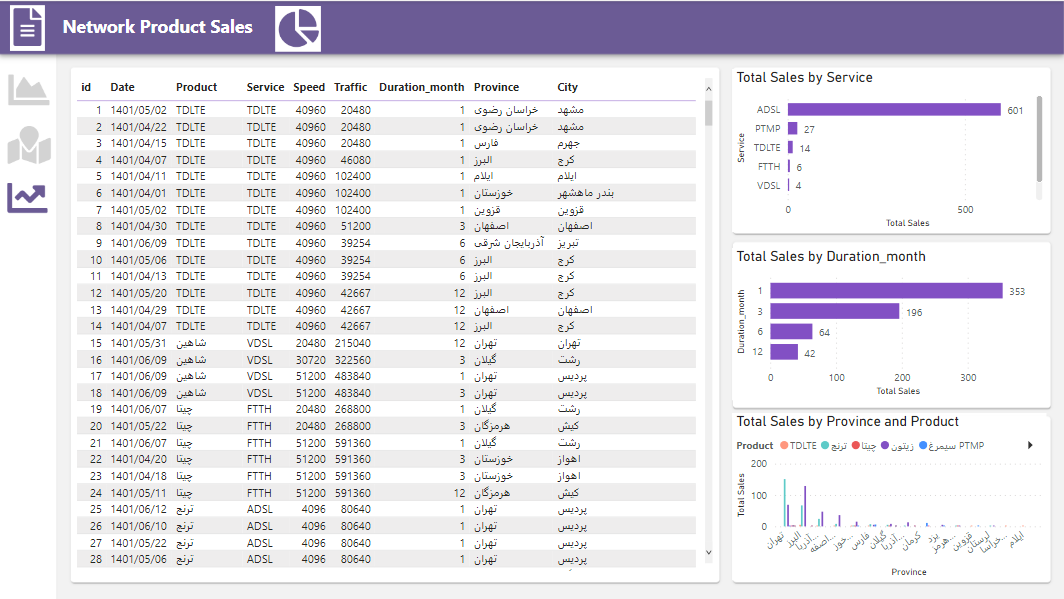

What the dashboard file says about the page in this screenshot:
{"tool":"powerbi","page":{"name":"Stats","canvas":[1280,720],"ordinal":2},"visuals":[{"type":"clusteredBarChart","fields":{"Category":["products.Service"],"Y":["CountNonNull(sales.Product_id)"]},"box":[880.3,82.2,378.5,195.6],"z":0,"group":"g1"},{"type":"clusteredBarChart","fields":{"Y":["CountNonNull(sales.Product_id)"],"Category":["products.Duration_month"]},"box":[880.3,297.7,368.5,182.9],"z":1000,"group":"g1"},{"type":"textbox","box":[69.5,11.3,256.6,39.7],"z":2000},{"type":"image","box":[0,81.9,69.5,53.3],"z":3000},{"type":"image","box":[0,201.3,69.5,65.2],"z":4000},{"type":"image","box":[0,138.9,69.5,65.2],"z":5000},{"type":"actionButton","box":[0,79.4,68,59.5],"z":6000},{"type":"actionButton","box":[0,201.3,68,65.2],"z":7000},{"type":"tableEx","fields":{"Values":["sales.id","time.Date","products.Product","products.Service","products.Speed","products.Traffic","products.Duration_month","province.Province","city.City"]},"box":[86.5,87.9,775.4,602.4],"z":8000,"group":"g1"},{"type":"clusteredColumnChart","fields":{"Category":["province.Province"],"Y":["CountNonNull(sales.Product_id)"],"Series":["products.Product"]},"box":[880.3,496.1,378.5,201.3],"z":9000,"group":"g1"},{"type":"image","box":[0,204.1,65.2,65.2],"z":10000},{"type":"image","box":[0,0,65.2,65.2],"z":11000},{"type":"image","box":[326,0,65.2,66.6],"z":12000},{"type":"group","id":"g1","title":"Group 1","box":[86.5,82.2,1172.3,615.2],"z":12001}]}

Visuals, with their boxes on the page's 1280x720 design canvas (x1, y1, x2, y2). These are canvas units, not pixel positions in the 1064x599 screenshot, which may show the page scaled, cropped or inside an application window:
clusteredBarChart - products.Service x CountNonNull(sales.Product_id): crop(880, 82, 1259, 278)
clusteredBarChart - CountNonNull(sales.Product_id) x products.Duration_month: crop(880, 298, 1249, 481)
textbox: crop(70, 11, 326, 51)
image: crop(0, 82, 70, 135)
image: crop(0, 201, 70, 266)
image: crop(0, 139, 70, 204)
actionButton: crop(0, 79, 68, 139)
actionButton: crop(0, 201, 68, 266)
tableEx - sales.id x time.Date: crop(86, 88, 862, 690)
clusteredColumnChart - province.Province x CountNonNull(sales.Product_id): crop(880, 496, 1259, 697)
image: crop(0, 204, 65, 269)
image: crop(0, 0, 65, 65)
image: crop(326, 0, 391, 67)
"Group 1" group: crop(86, 82, 1259, 697)
